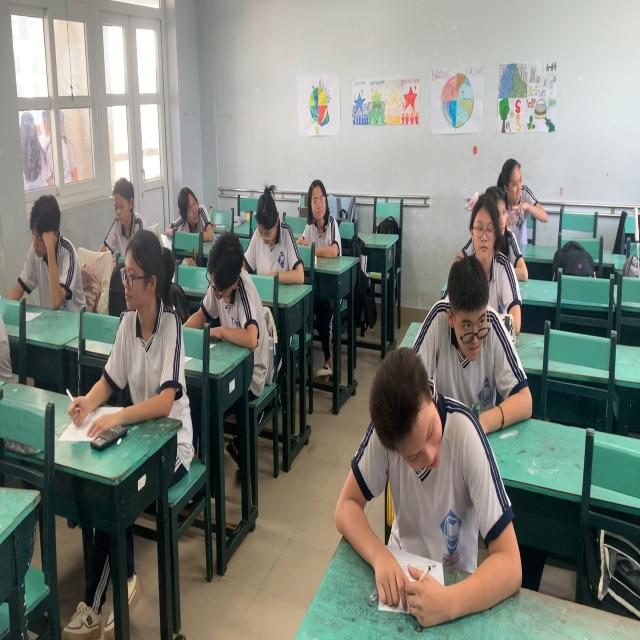cheating: (171, 181, 215, 253)
not_cheating: (344, 349, 497, 621), (429, 258, 514, 434), (114, 231, 188, 408), (462, 200, 521, 342), (11, 184, 77, 305), (200, 231, 268, 342), (244, 186, 310, 289), (499, 155, 549, 255), (102, 174, 151, 253), (297, 177, 336, 247)
